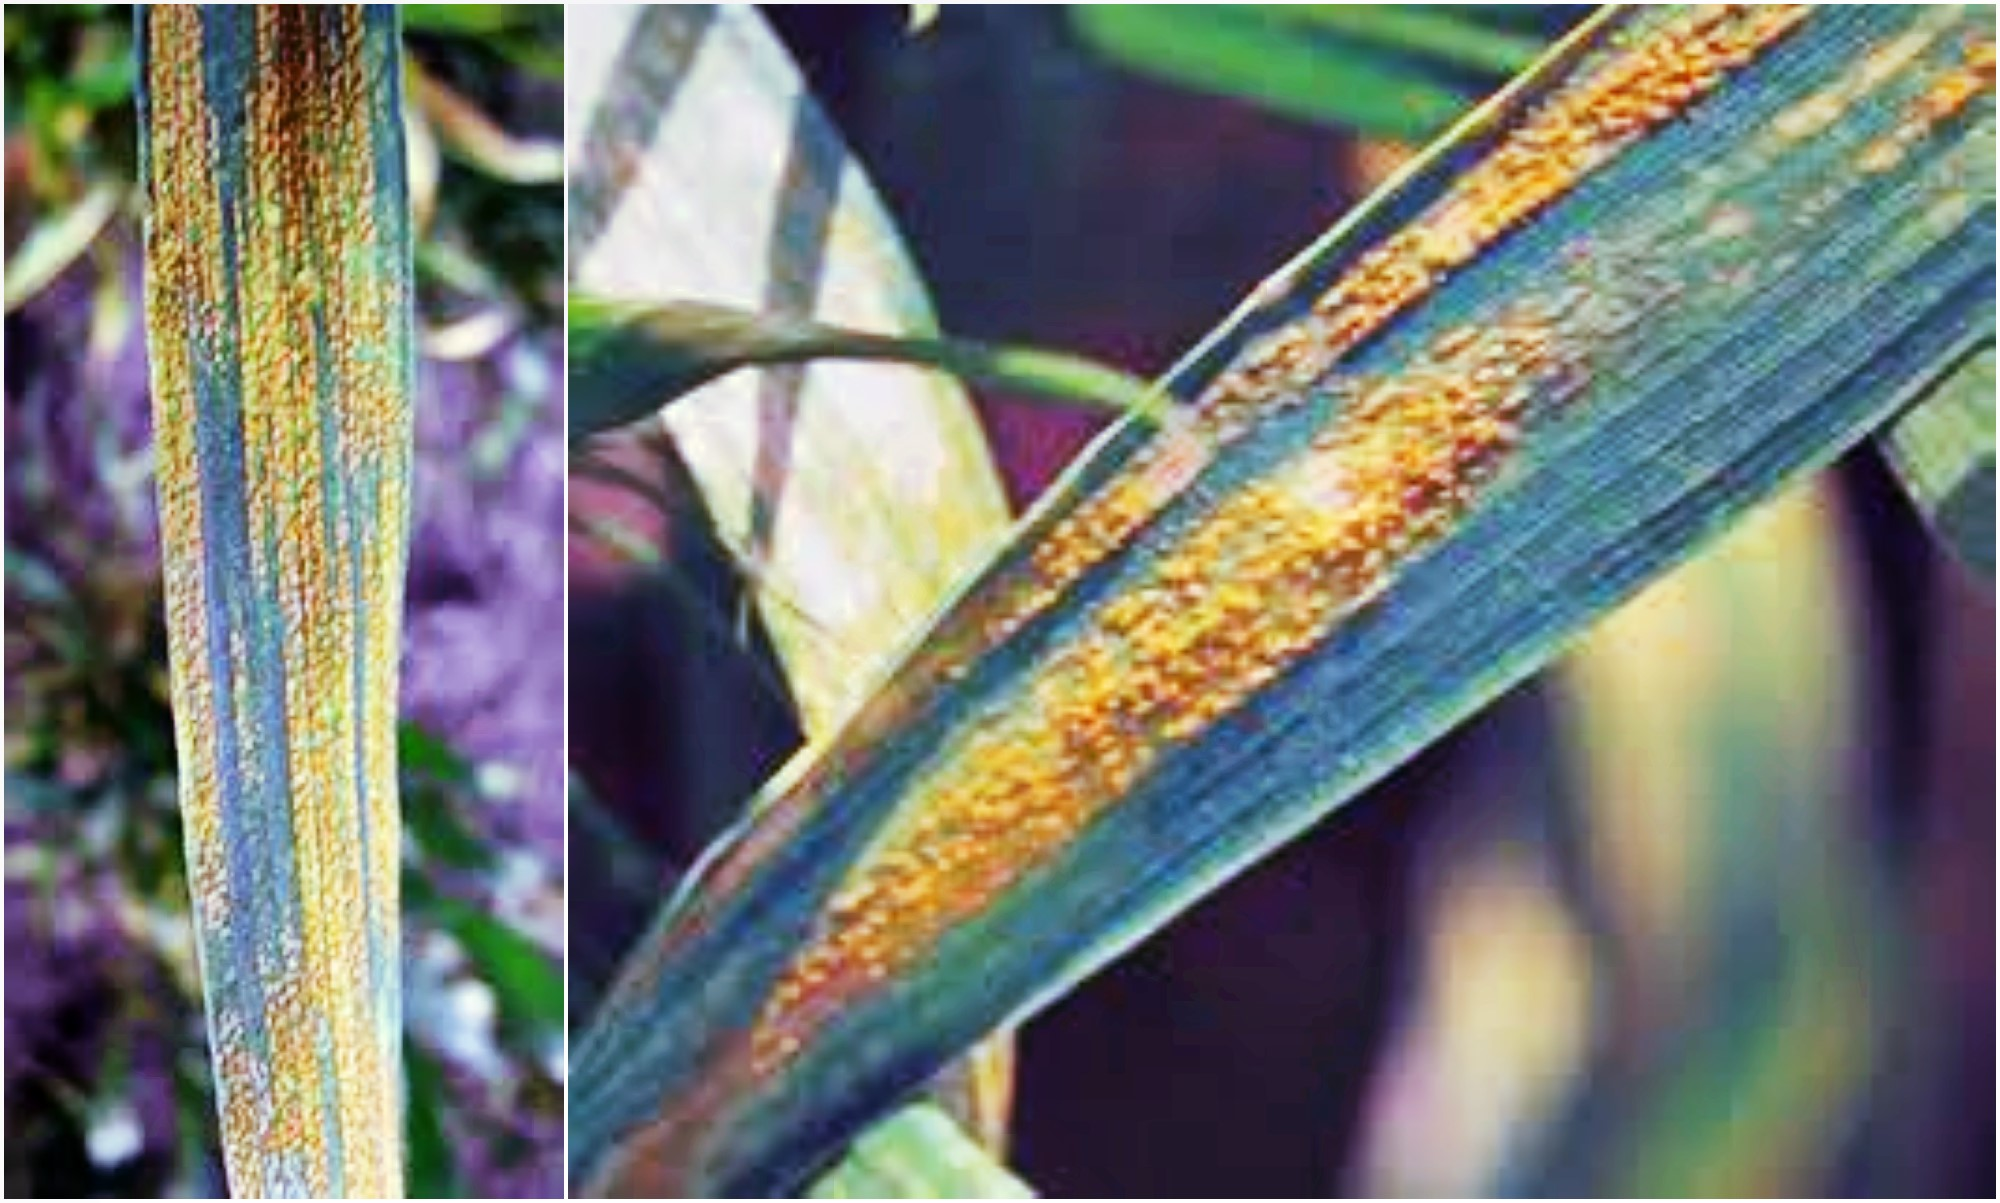Leaf Rust: (851, 39, 1743, 924), (94, 11, 439, 1167)
